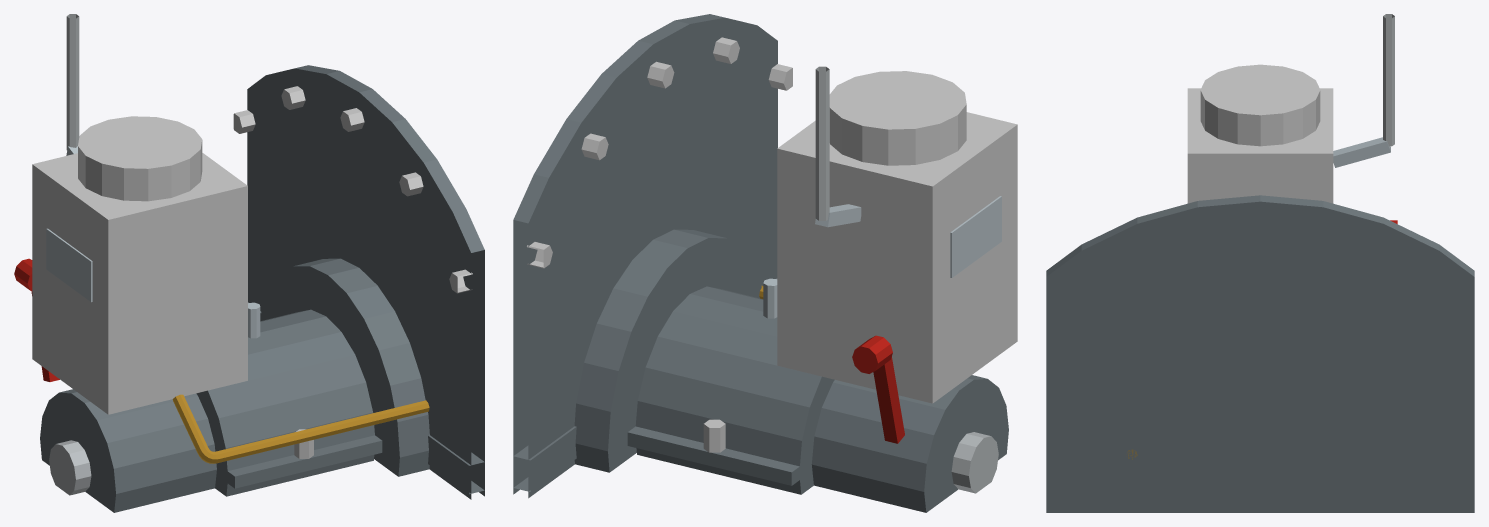
Rendered from cell_50.obj.
The picture shows the model from 3 angles, left to right: view 1: azimuth 30°, elevation 25°; view 2: azimuth 150°, elevation 25°; view 3: azimuth 270°, elevation 25°; orthographic projection. The views are drawn at different scales.
Size of the model in its own units: 0.8 by 1 by 1.
